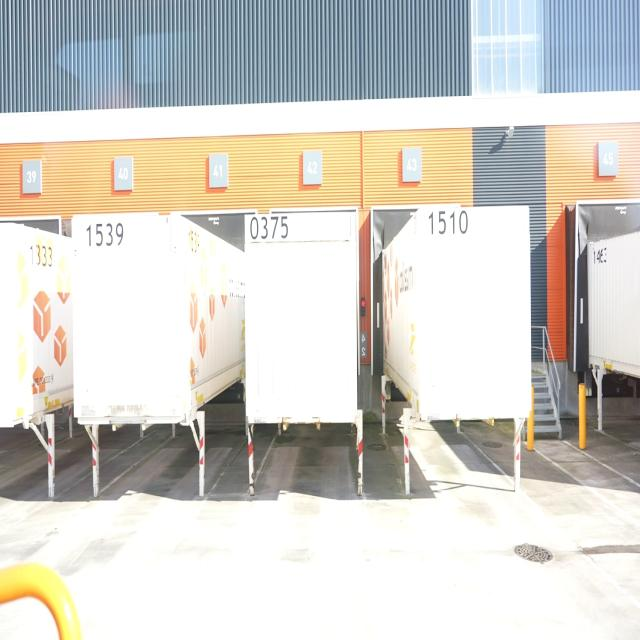Code: (81, 214, 126, 251), (427, 205, 471, 242), (248, 212, 292, 248), (26, 233, 55, 276)
